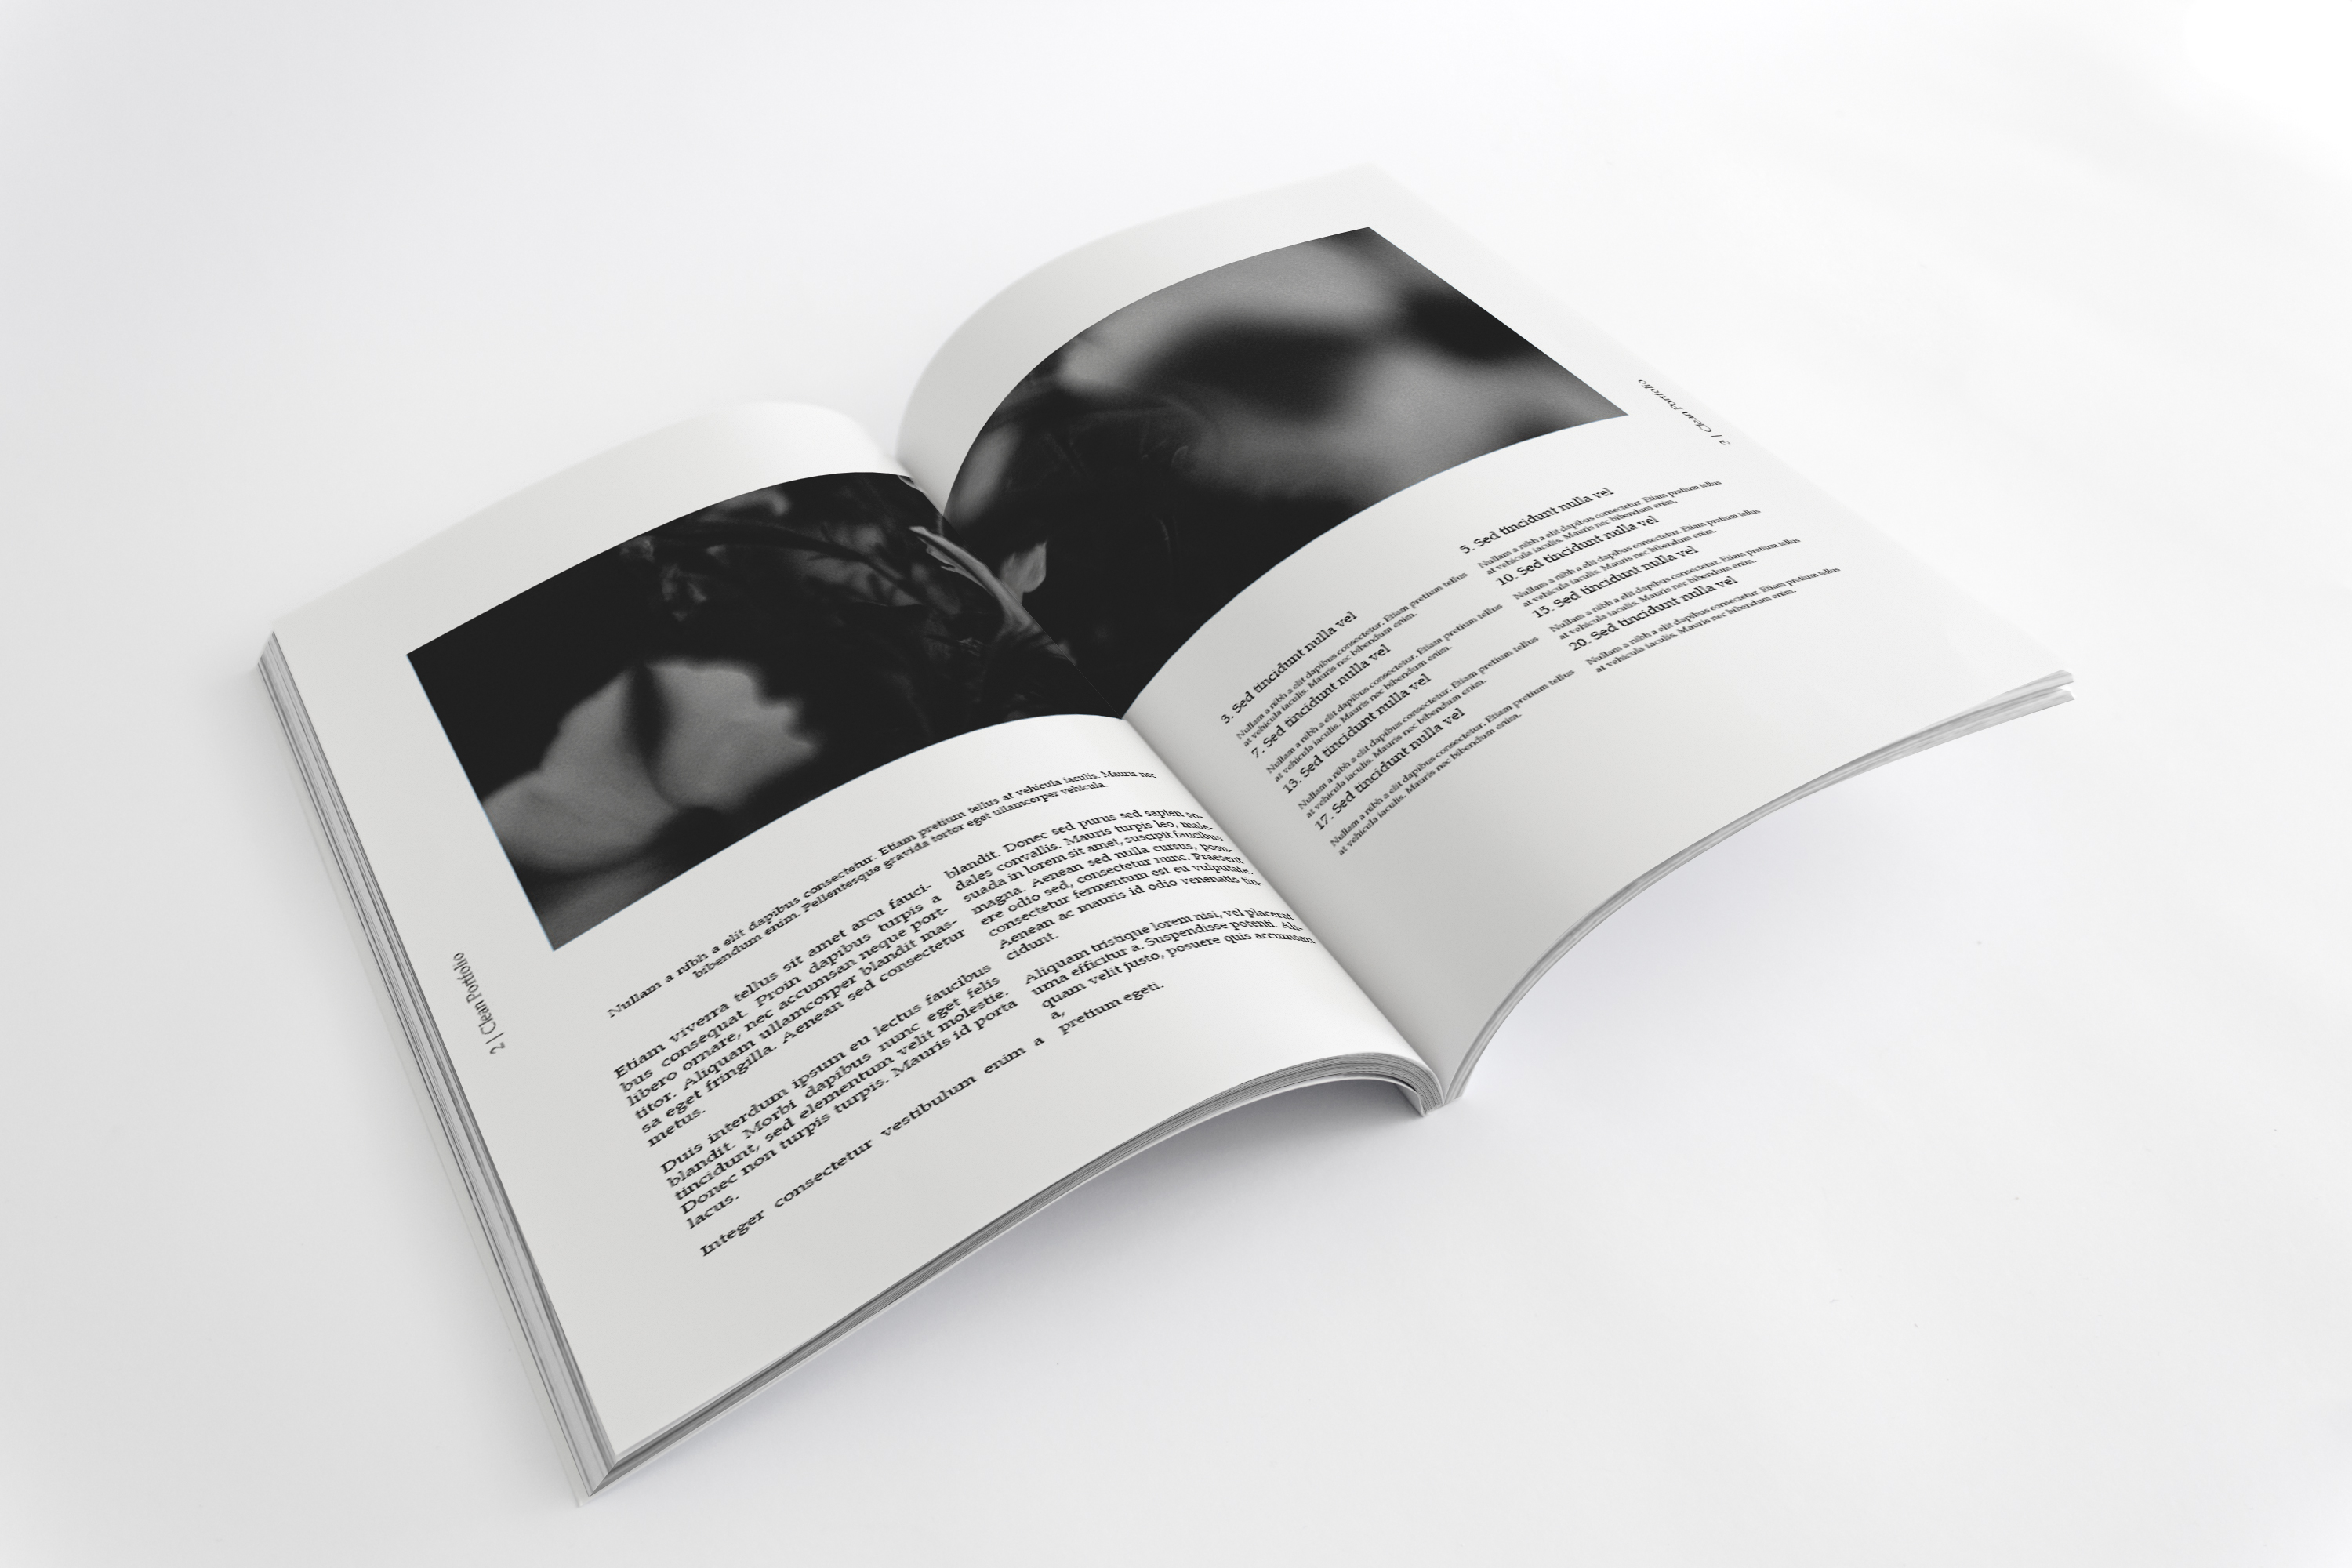book: (156, 156, 2093, 1500)
